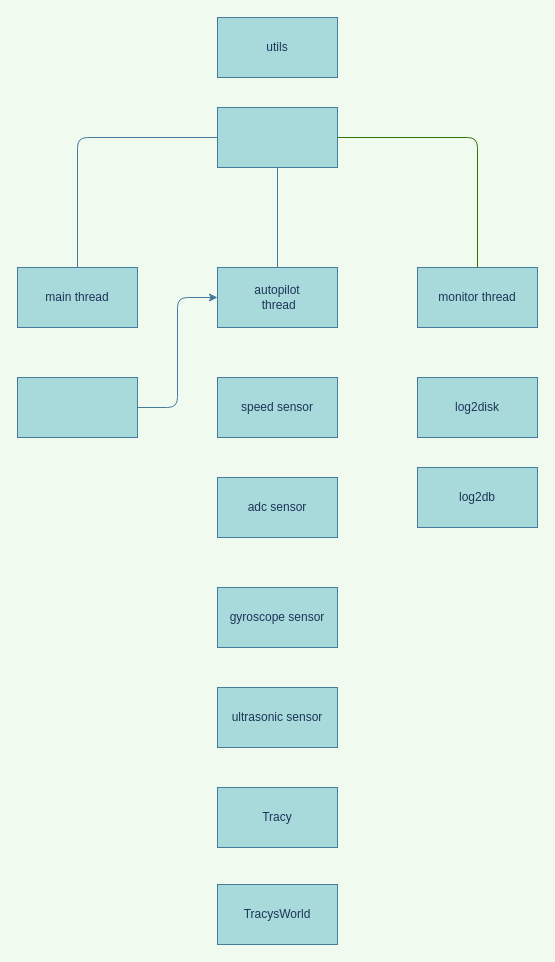
Image size: 555x962. Some labels were removed from this diagram. Here are the shapes that lost their labels. From the top down, the centre of each, then its label:
the point at 277,137: debuglog
the point at 77,407: TracyController
